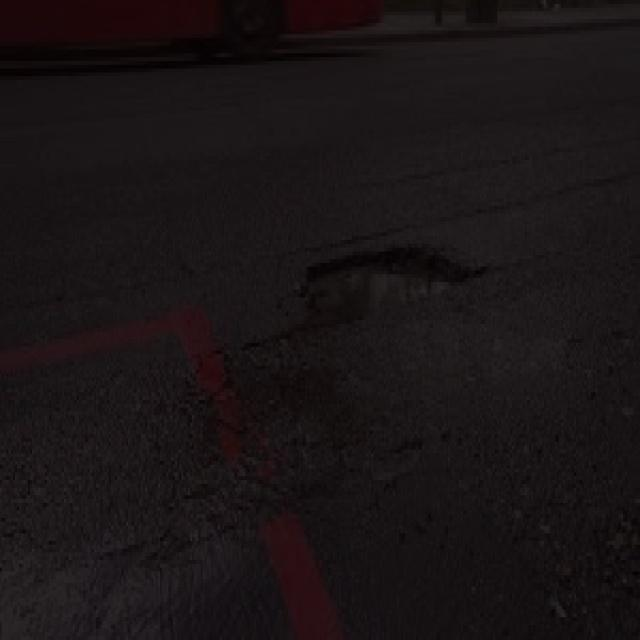Pothole: (276, 244, 499, 322)
